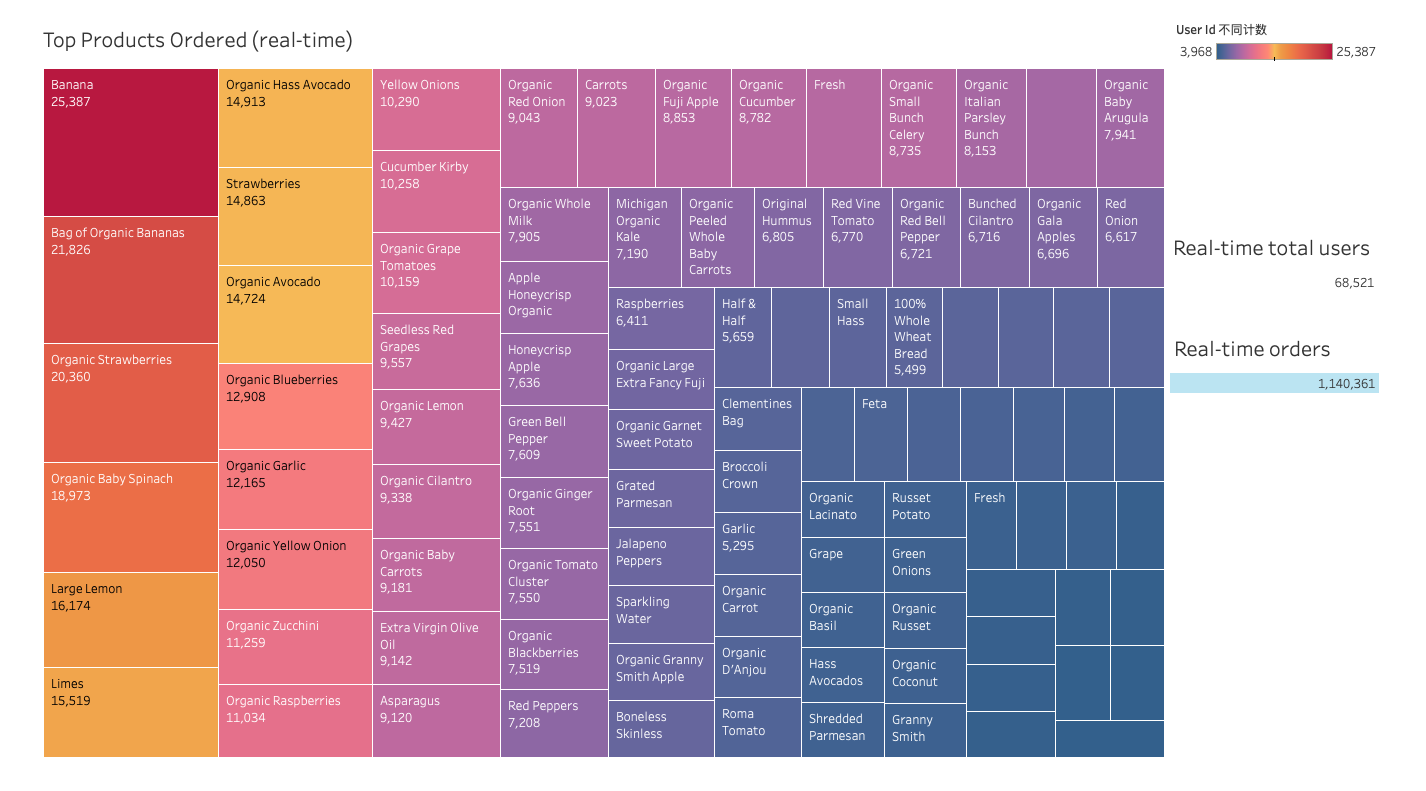

This screenshot's page, from the dashboard's own definition file:
{"tool":"tableau","page":{"name":"仪表板 1","canvas":[1366,768],"ordinal":0},"visuals":[{"type":"worksheet","title":"Top Products Ordered (real-time)","mark":"Automatic","box":[8,8,1137,752]},{"type":"legend","title":"Top Products Ordered (real-time)","param":"[Clipboard_20220821T103019].[ctd:USER_ID:qk]","box":[1145,8,213,65]},{"type":"worksheet","title":"Real-time total users","mark":"Automatic","box":[1142,220,209,96]},{"type":"worksheet","title":"Real-time orders","mark":"Automatic","box":[1143,321,209,71]}]}

Visuals, with their boxes in screenshot pixels (x1, y1, x2, y2), scaled from the page's 1366x768 canvas onto the 1426x791 screenshot:
"Top Products Ordered (real-time)" worksheet: x1=8 y1=8 x2=1195 y2=783
"Top Products Ordered (real-time)" legend: x1=1195 y1=8 x2=1418 y2=75
"Real-time total users" worksheet: x1=1192 y1=227 x2=1410 y2=325
"Real-time orders" worksheet: x1=1193 y1=331 x2=1411 y2=404
